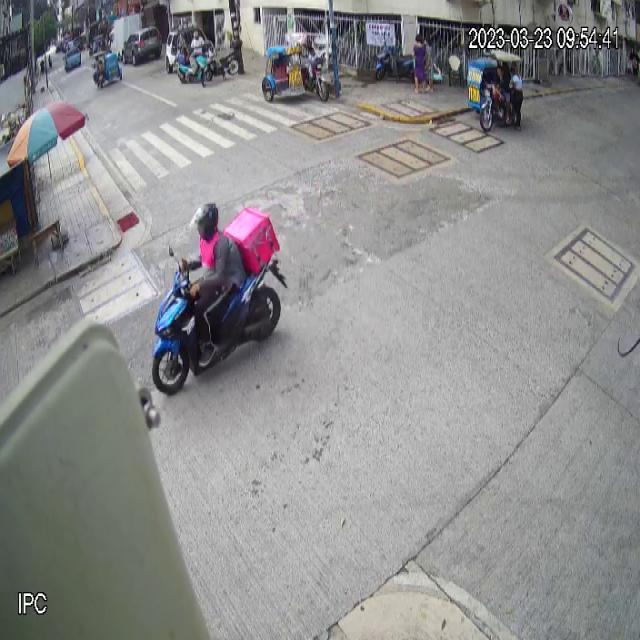Motorcycle: (148, 247, 290, 398)
Tricycle: (261, 32, 330, 103), (467, 49, 523, 133)
